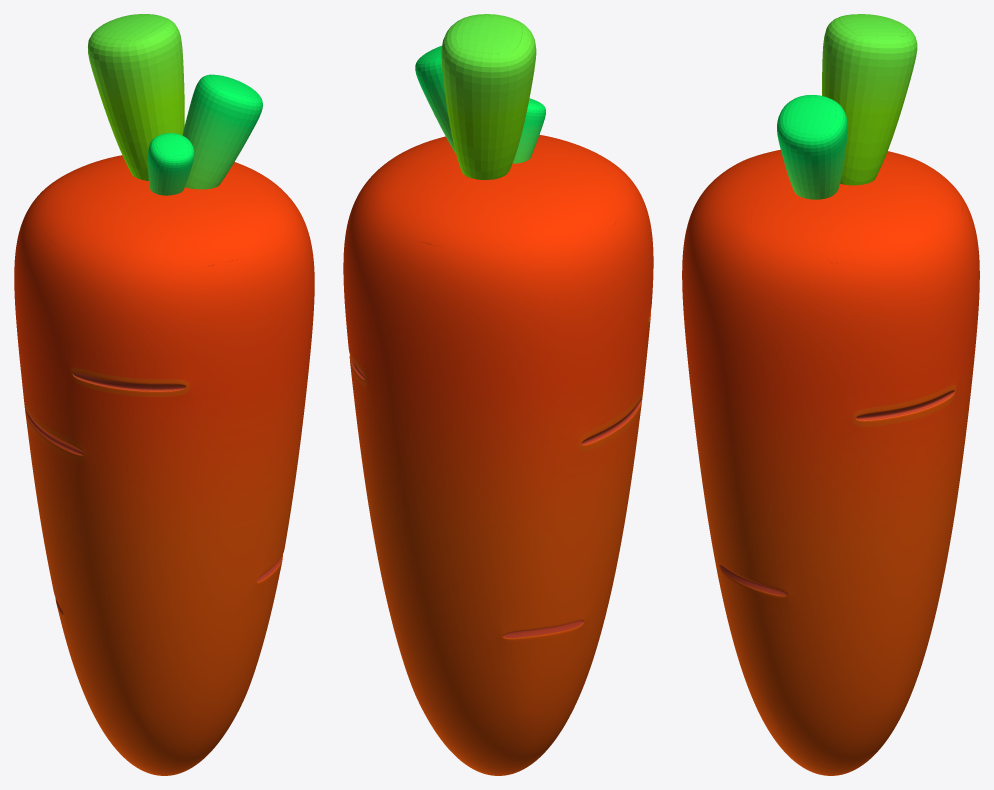
The model's file is carrot.fbx_Collection.fbx_carrot.fbx.
3 views of the same model, side by side, from view 1: azimuth 30°, elevation 25°; view 2: azimuth 150°, elevation 25°; view 3: azimuth 270°, elevation 25° (orthographic). The views are drawn at different scales.
Visible parts, largest first — view 1: Cube, Cube.002, Cube.003, Cube.001; view 2: Cube, Cube.002, Cube.003, Cube.001; view 3: Cube, Cube.002, Cube.003.
Boxes of the visible parts, <box> form: Cube: <box>14,155,314,775</box>; Cube.002: <box>88,14,184,180</box>; Cube.003: <box>182,74,262,189</box>; Cube.001: <box>148,133,194,195</box>; Cube: <box>343,135,653,775</box>; Cube.002: <box>441,14,536,179</box>; Cube.003: <box>415,45,455,153</box>; Cube.001: <box>512,98,545,163</box>; Cube: <box>682,149,979,775</box>; Cube.002: <box>822,14,917,185</box>; Cube.003: <box>777,95,847,199</box>.
Bounding box in the file's own units: 176 × 486 × 176.
5 materials, 4 textured.
